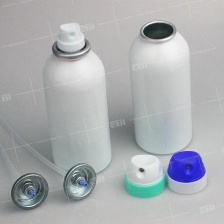aerosol_cans: (38, 19, 114, 178)
bottle: (125, 16, 199, 158)
